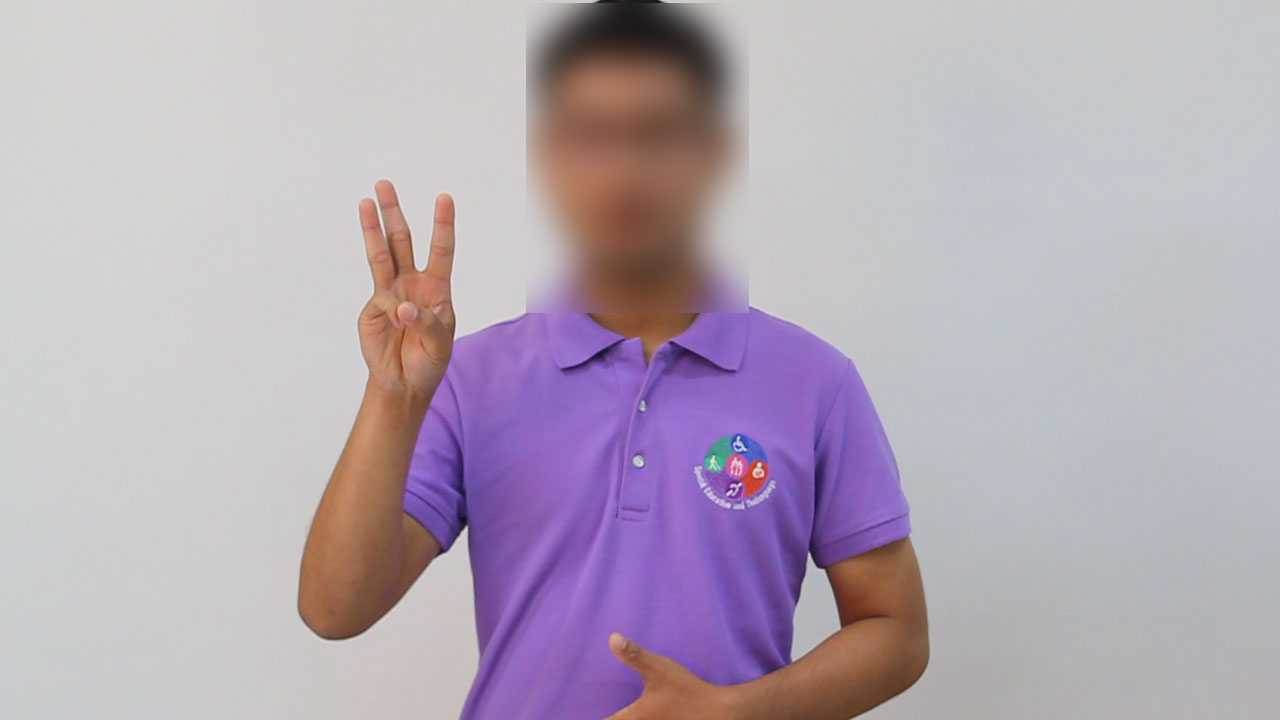wor: (347, 172, 464, 404)
